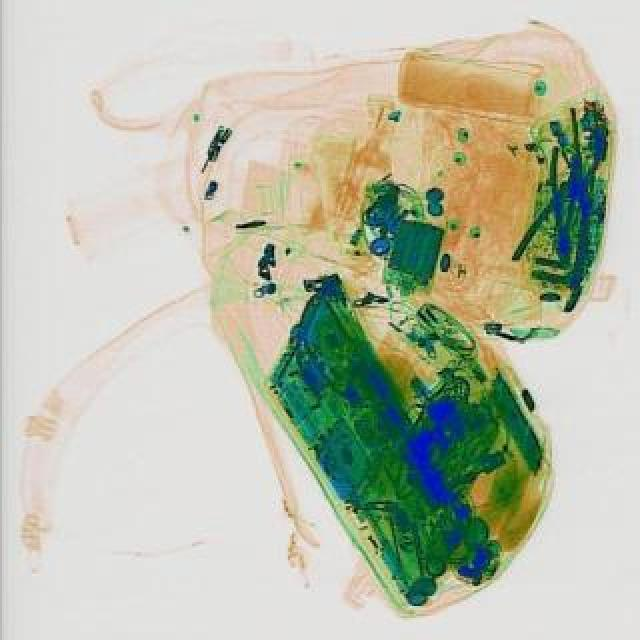wrench: (506, 140, 628, 290), (544, 144, 584, 262)
